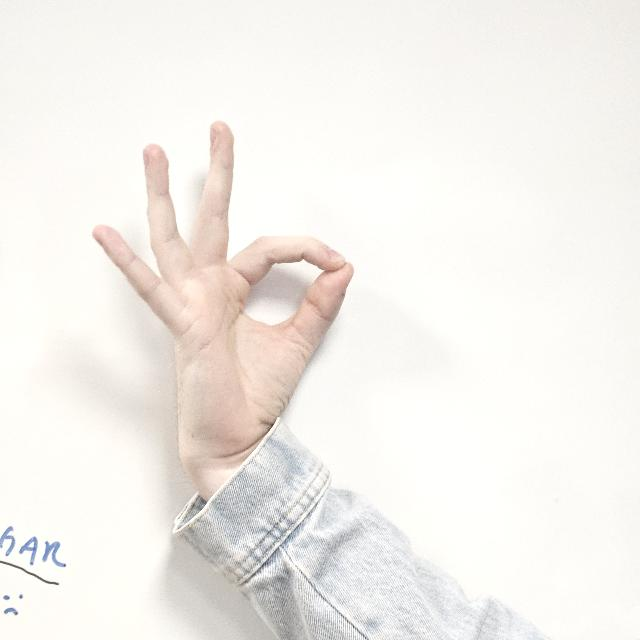Bolinha: (86, 121, 362, 426)
